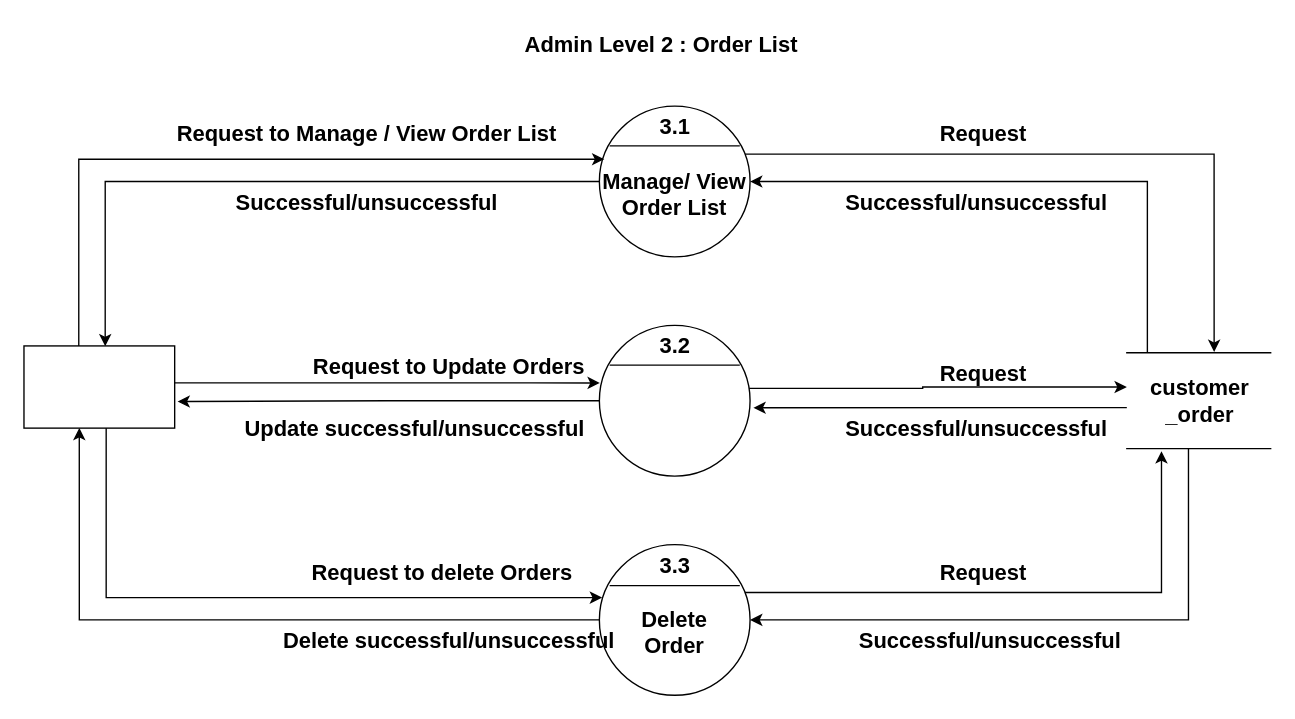
This 1295x719 diagram has some shape labels left out. Here are the shapes that lost their labels. From the top down, the box of each, then its label:
(23, 345, 175, 428): Manage Order List
(598, 324, 750, 476): Update/Edit Order
